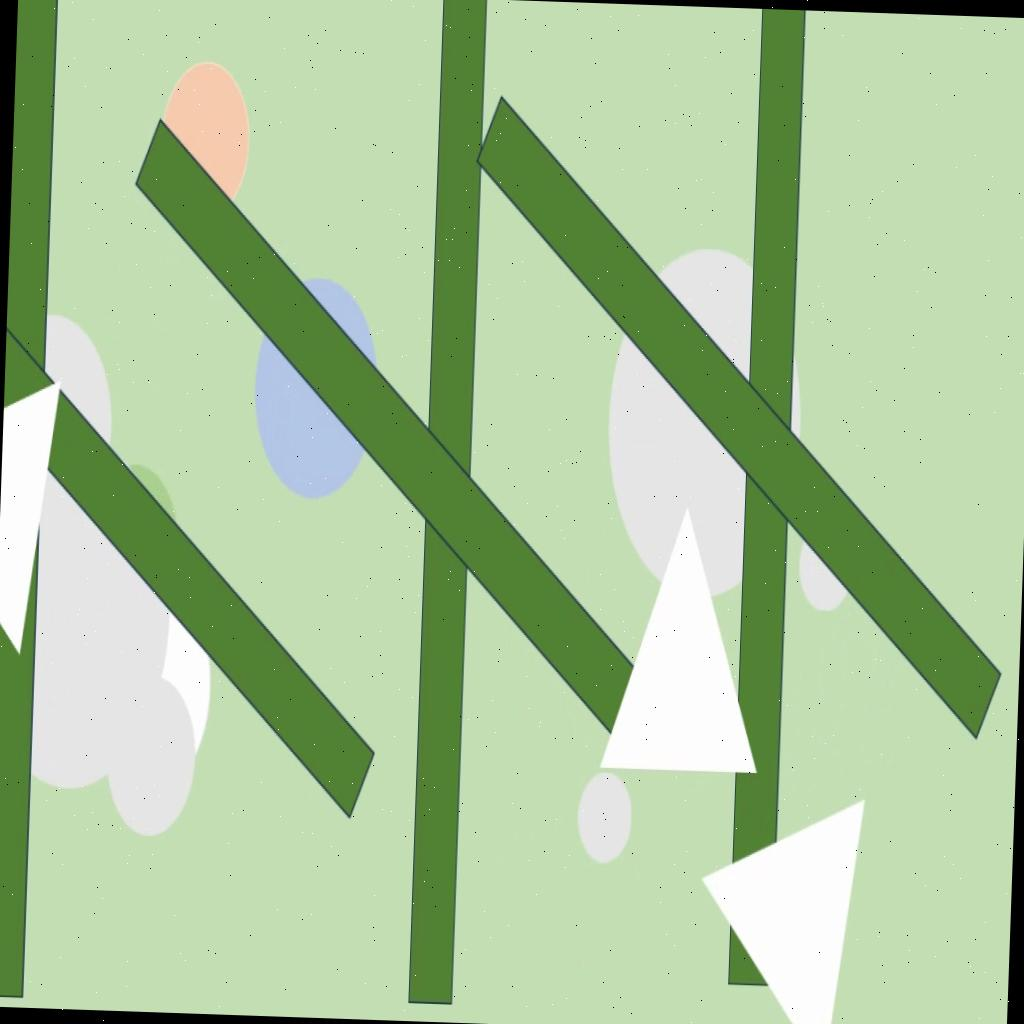Circle: (602, 242, 805, 605), (0, 482, 165, 789), (248, 274, 378, 506), (86, 568, 214, 784), (0, 309, 116, 542), (158, 54, 252, 222), (102, 674, 198, 834), (100, 465, 176, 581), (798, 515, 856, 614), (578, 768, 632, 865)
